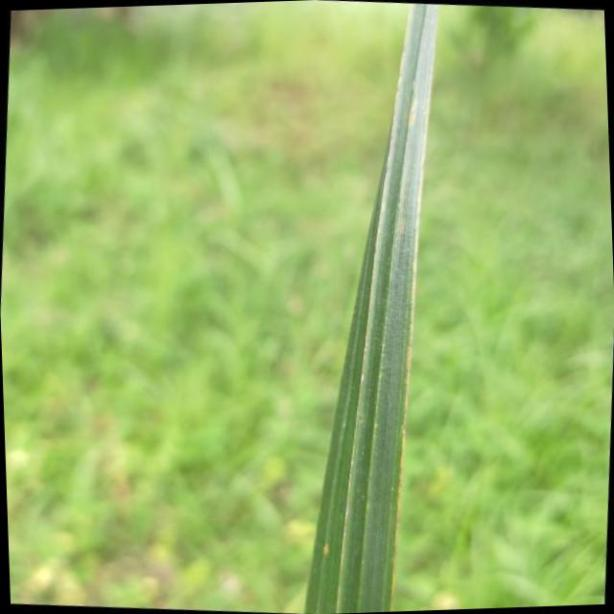Boron: (303, 0, 442, 614)
